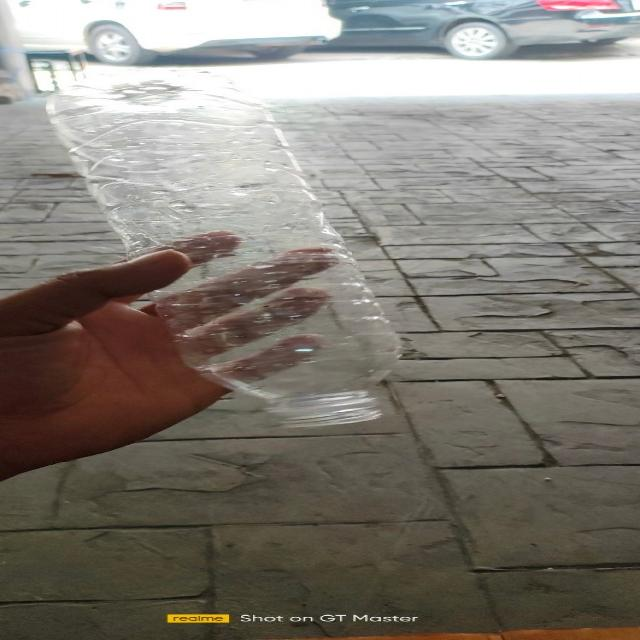plastic_bottle: (43, 65, 402, 428)
